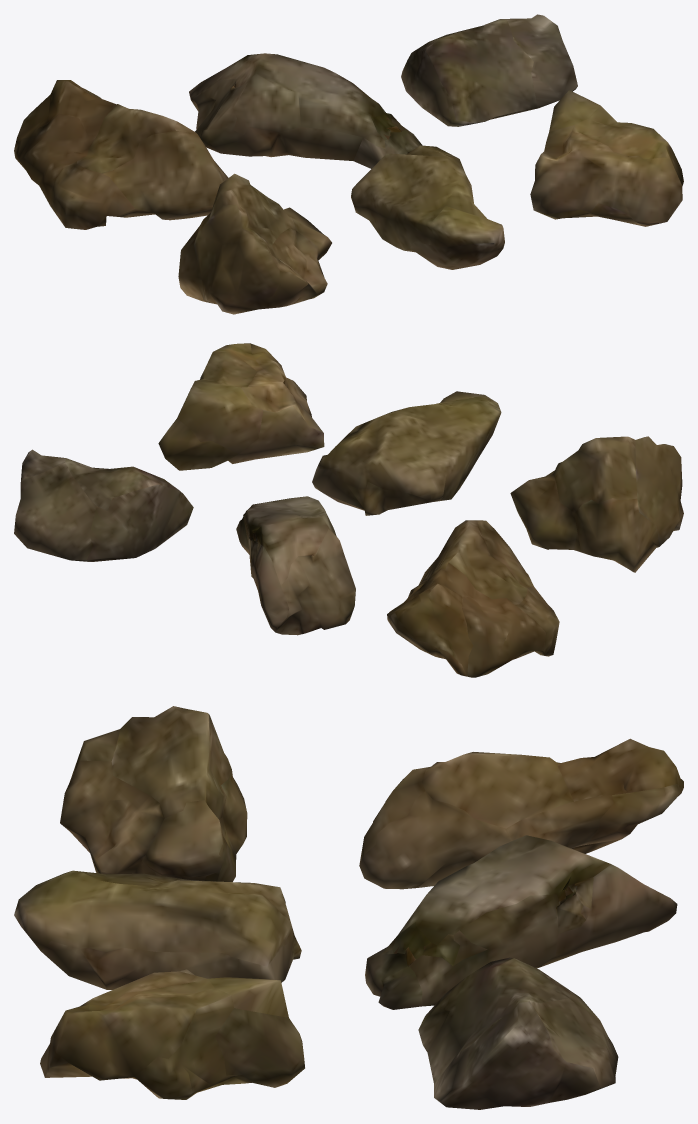
File: rocher_mousse_lod1.glb
3 renders of one model, top to bottom at view 1: azimuth 30°, elevation 25°; view 2: azimuth 150°, elevation 25°; view 3: azimuth 270°, elevation 25°, orthographic. The views are drawn at different scales.
Parts seen in each view (by area): view 1: rock_moss_set_01_rock01; view 2: rock_moss_set_01_rock01; view 3: rock_moss_set_01_rock01.
Part boxes in pixels (x1,y1,x2,y2): rock_moss_set_01_rock01: (14,14,683,314); rock_moss_set_01_rock01: (14,343,683,677); rock_moss_set_01_rock01: (14,706,683,1109).
Bounding box in the file's own units: 8 × 1.76 × 6.94.
Materials: 1 (1 with a texture image).
